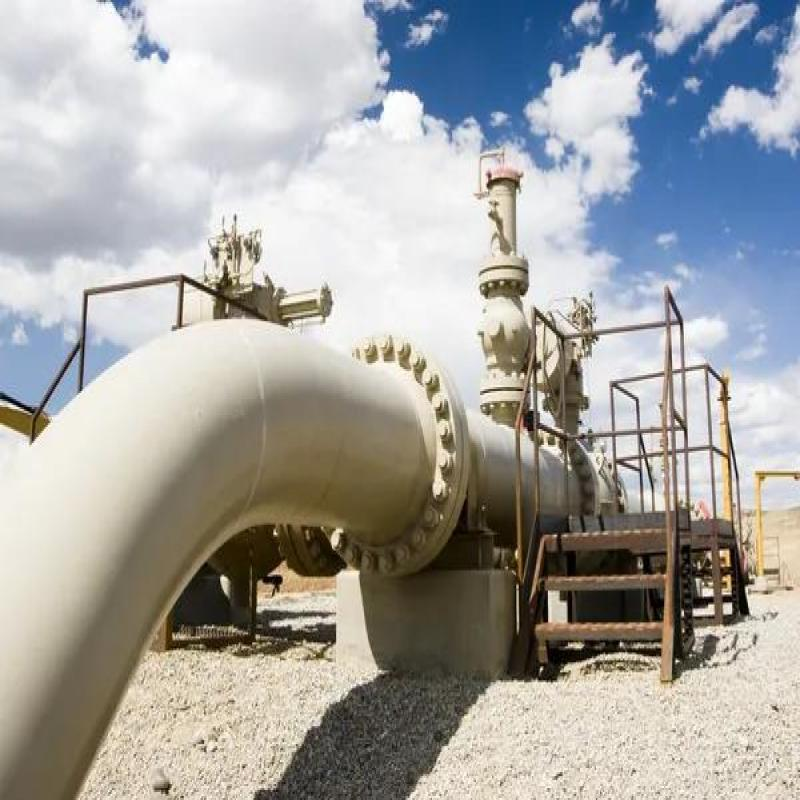Healthy: (0, 295, 435, 736)
